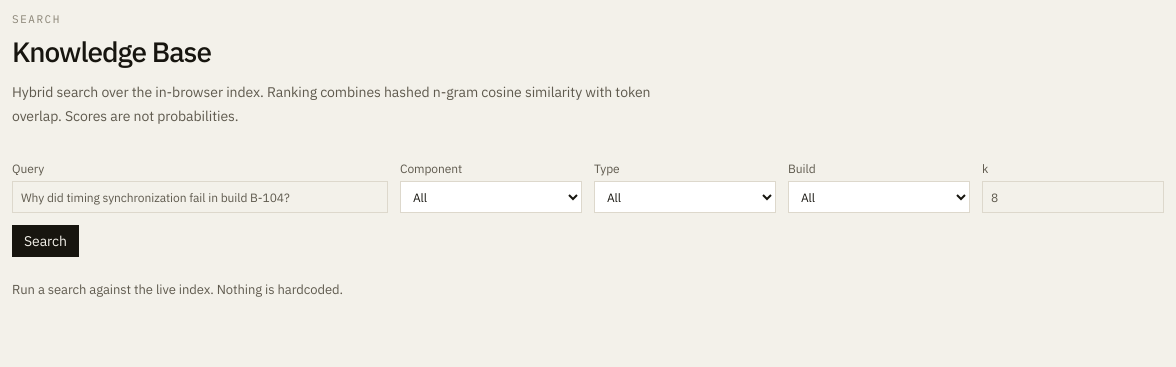
KnowledgeBasePage › shows an error when search fails
Click the button "Search".
click(46, 241)  # box top-left (12, 225), bottom-right (79, 257)
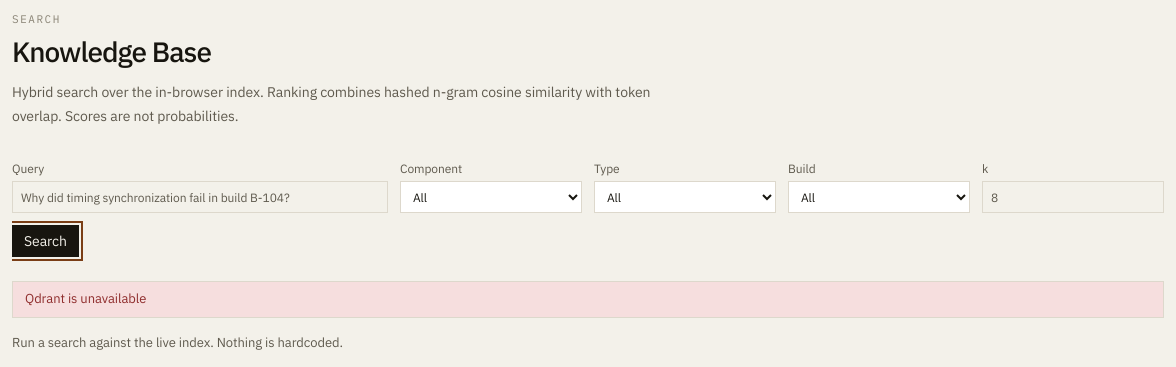
Result: the text "Qdrant is unavailable" is shown at top-left (25, 290), bottom-right (146, 307)
